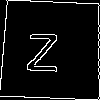Z: (26, 24, 60, 71)
